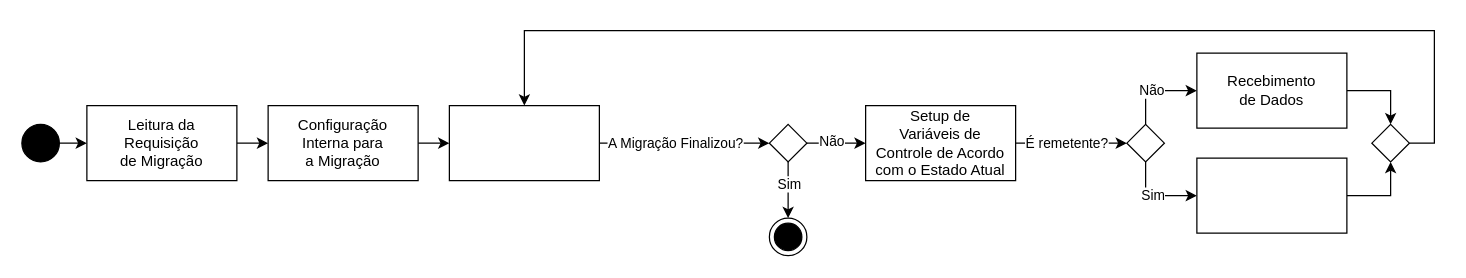
The diagram is 1466 pixels wide and 278 high, and some of its shapes have lost their labels. Here are the shapes that lost their labels. From the top down, the centre of each, then its label:
pixel 523 142: Checagem do Estado Atual da Migração
pixel 1271 195: Envio de Dados
